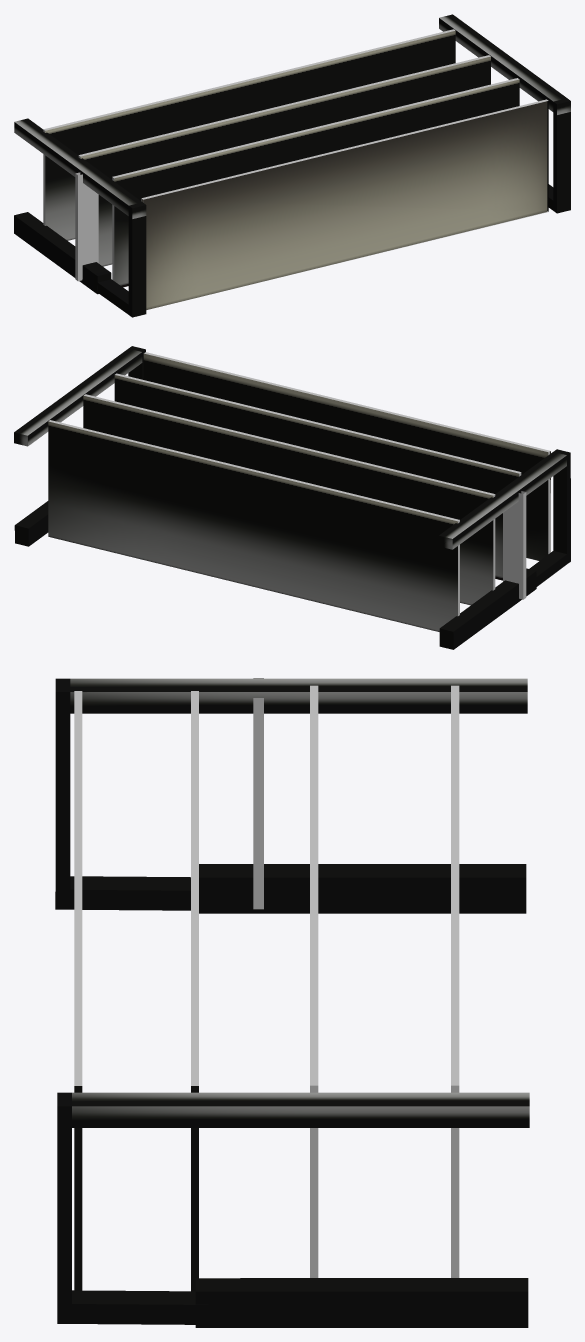
The model's file is shelveswideshort150_wtf.obj.
The picture shows the model from 3 angles, top to bottom: view 1: azimuth 30°, elevation 25°; view 2: azimuth 150°, elevation 25°; view 3: azimuth 270°, elevation 25°; orthographic projection. The views are drawn at different scales.
Parts seen in each view (by area): view 1: group4, group6, group2, group3, group10; view 2: group4, group6, group3, group2, group10; view 3: group2, group6, group3, group10, group8, group7.
Part boxes in pixels (box(x1,y1,x2,y2)): group4: box(45, 30, 547, 309); group6: box(14, 118, 146, 317); group2: box(439, 14, 570, 213); group3: box(43, 29, 548, 290); group10: box(43, 129, 98, 281); group4: box(48, 353, 550, 631); group6: box(438, 449, 570, 649); group3: box(48, 352, 549, 521); group2: box(14, 346, 145, 546); group10: box(458, 491, 526, 615); group2: box(57, 1092, 529, 1327); group6: box(55, 678, 527, 913); group3: box(74, 685, 459, 1085); group10: box(253, 678, 459, 1277); group8: box(74, 1086, 82, 1290); group7: box(191, 1086, 198, 1291).
Bounding box in the file's own units: 660 × 164 × 306.
